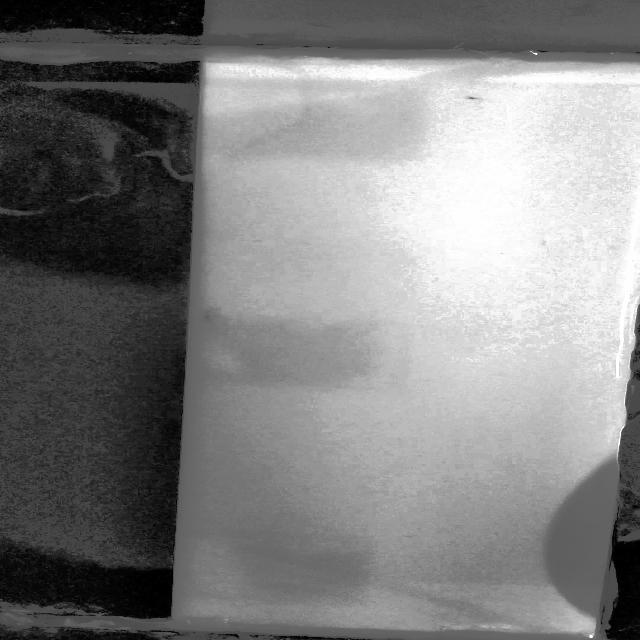shrimp: (203, 307, 221, 324)
